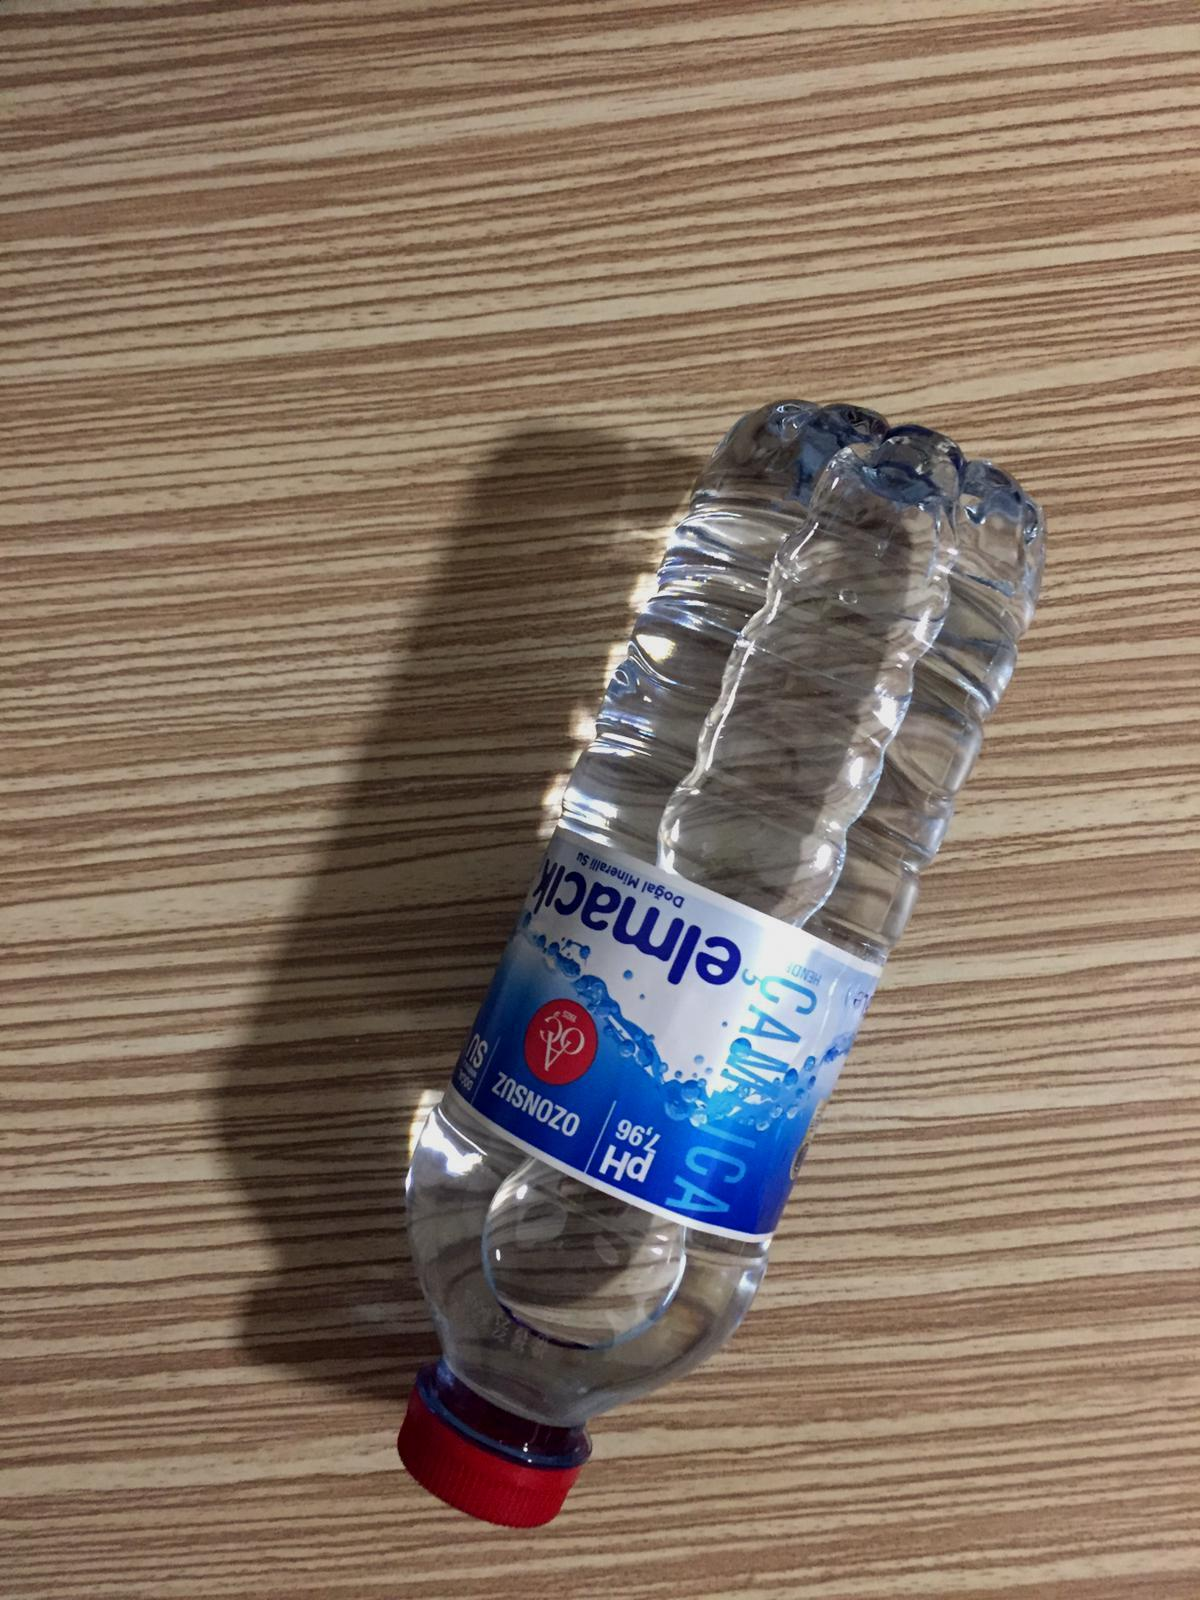bottle: (384, 384, 1041, 1548)
